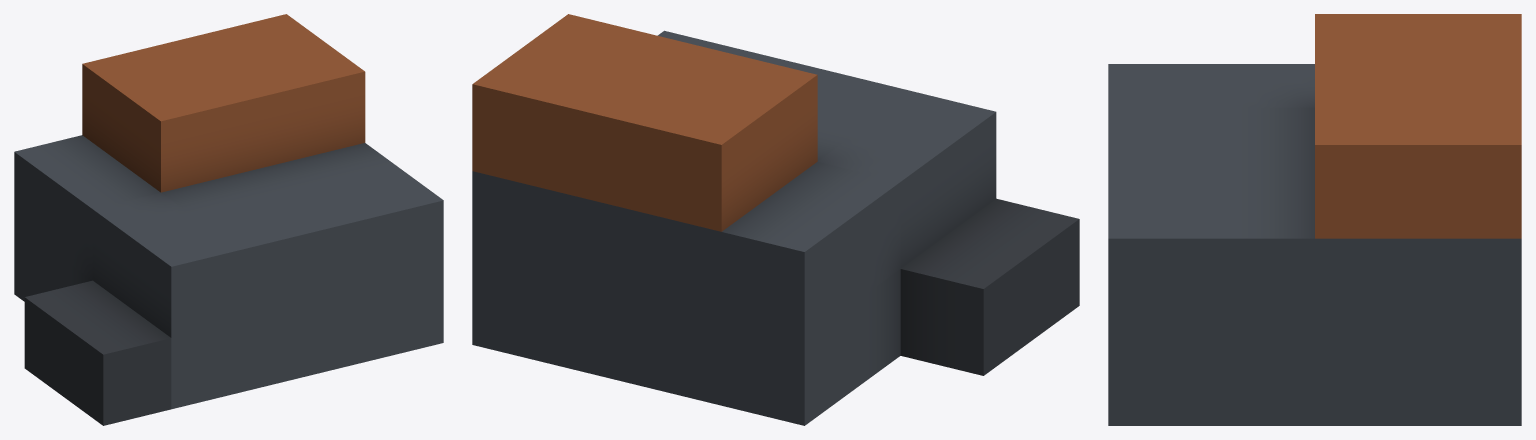
File: cm_chunk_m.glb
The picture shows the model from 3 angles, left to right: view 1: azimuth 30°, elevation 25°; view 2: azimuth 150°, elevation 25°; view 3: azimuth 270°, elevation 25°; orthographic projection. The views are drawn at different scales.
Visible parts, largest first — view 1: cm_chunk_m_body; view 2: cm_chunk_m_body; view 3: cm_chunk_m_body.
Part boxes in pixels (<box>): cm_chunk_m_body: <box>14,14,443,425</box>; cm_chunk_m_body: <box>472,14,1079,425</box>; cm_chunk_m_body: <box>1108,14,1521,425</box>.
Size of the model in its own units: 0.3125 by 0.1875 by 0.25.
1 material, 1 textured.
